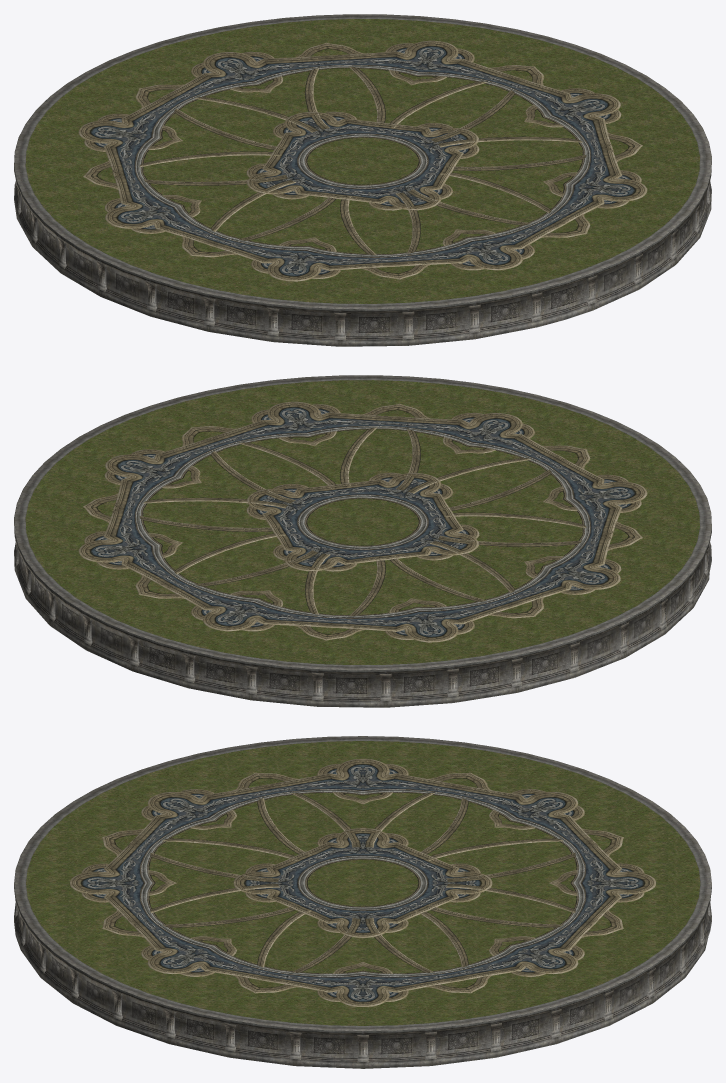
Rendered from Floor.fbx.
The picture shows the model from 3 angles, top to bottom: view 1: azimuth 30°, elevation 25°; view 2: azimuth 150°, elevation 25°; view 3: azimuth 270°, elevation 25°; orthographic projection.
Visible parts, largest first — view 1: Floor; view 2: Floor; view 3: Floor.
Part boxes in pixels (x1=…): Floor: x1=14, y1=14, x2=711, y2=346; Floor: x1=14, y1=375, x2=711, y2=707; Floor: x1=14, y1=736, x2=711, y2=1068.
Size of the model in its own units: 4022 by 247 by 4022.
3 materials, 3 textured.
